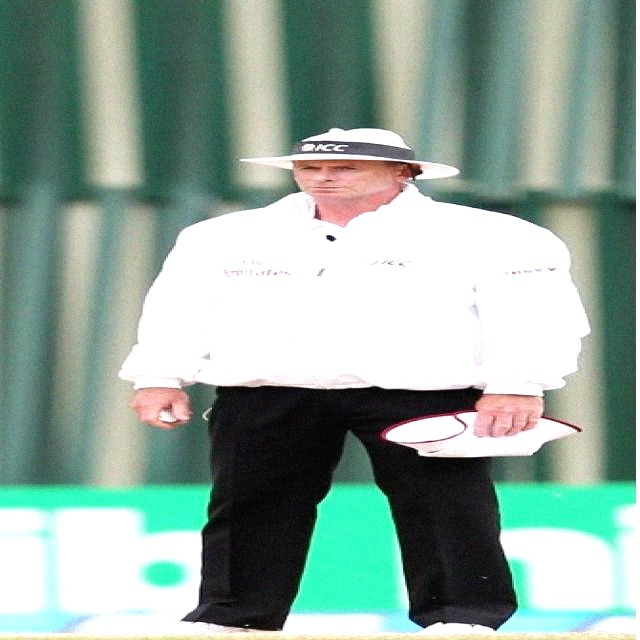No_Action: (120, 118, 599, 640)
